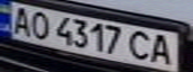1: (87, 20, 106, 52)
3: (69, 17, 90, 50)
4: (51, 13, 75, 46)
7: (103, 22, 127, 56)
A: (6, 3, 36, 36), (148, 32, 178, 65)
C: (127, 28, 157, 62)
O: (27, 9, 54, 39)
